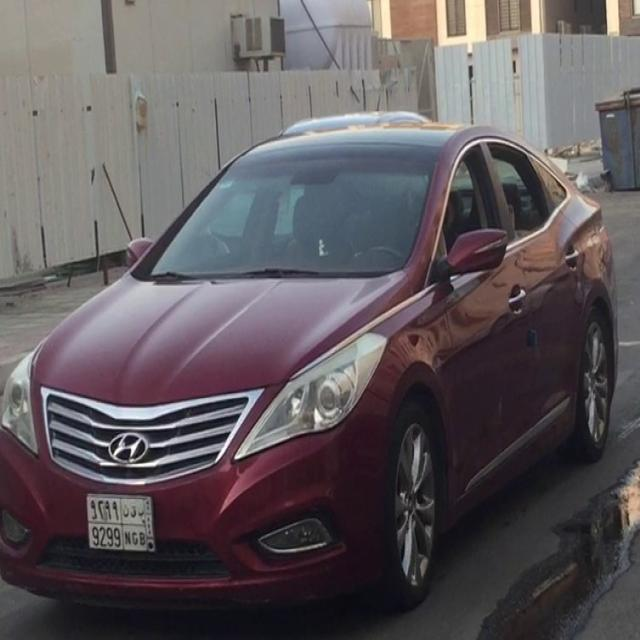Car-plate: (81, 488, 159, 566)
